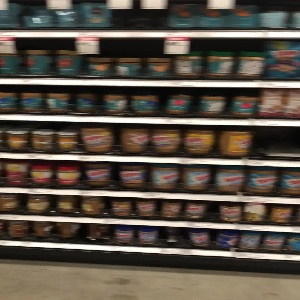void: (112, 1, 168, 33), (251, 127, 300, 158), (158, 225, 192, 252)
